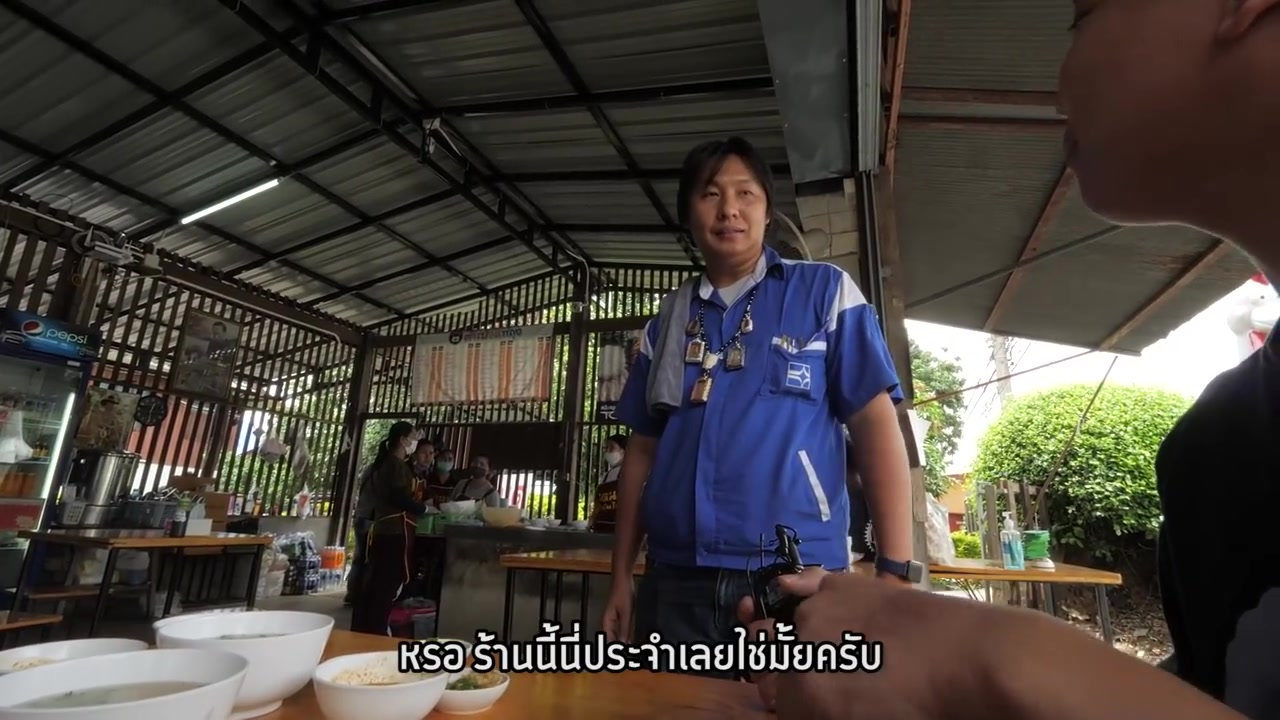text-label: (396, 620, 882, 672)
